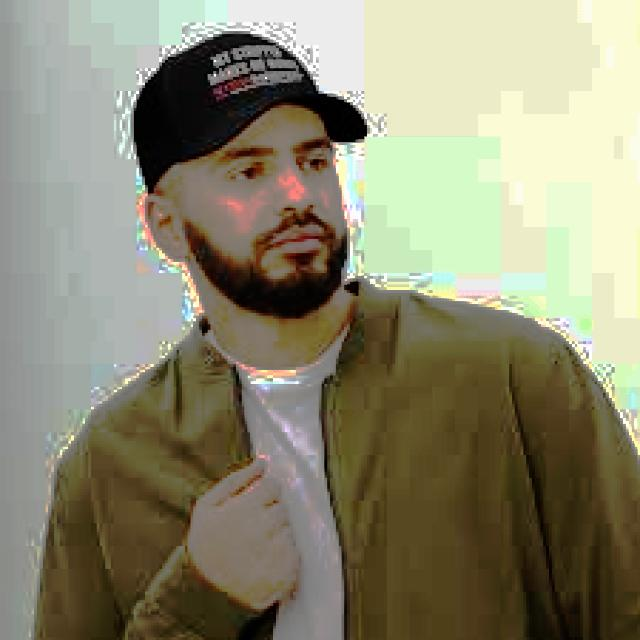TOPI: (122, 22, 373, 188)
